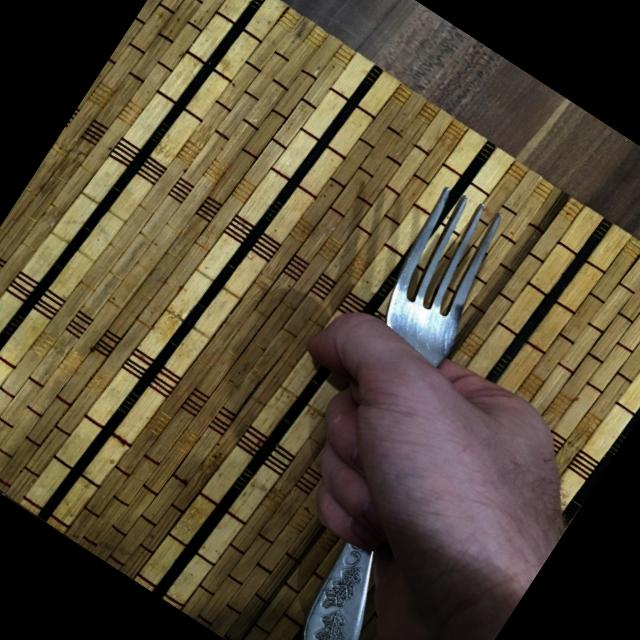fork: (180, 178, 596, 640)
